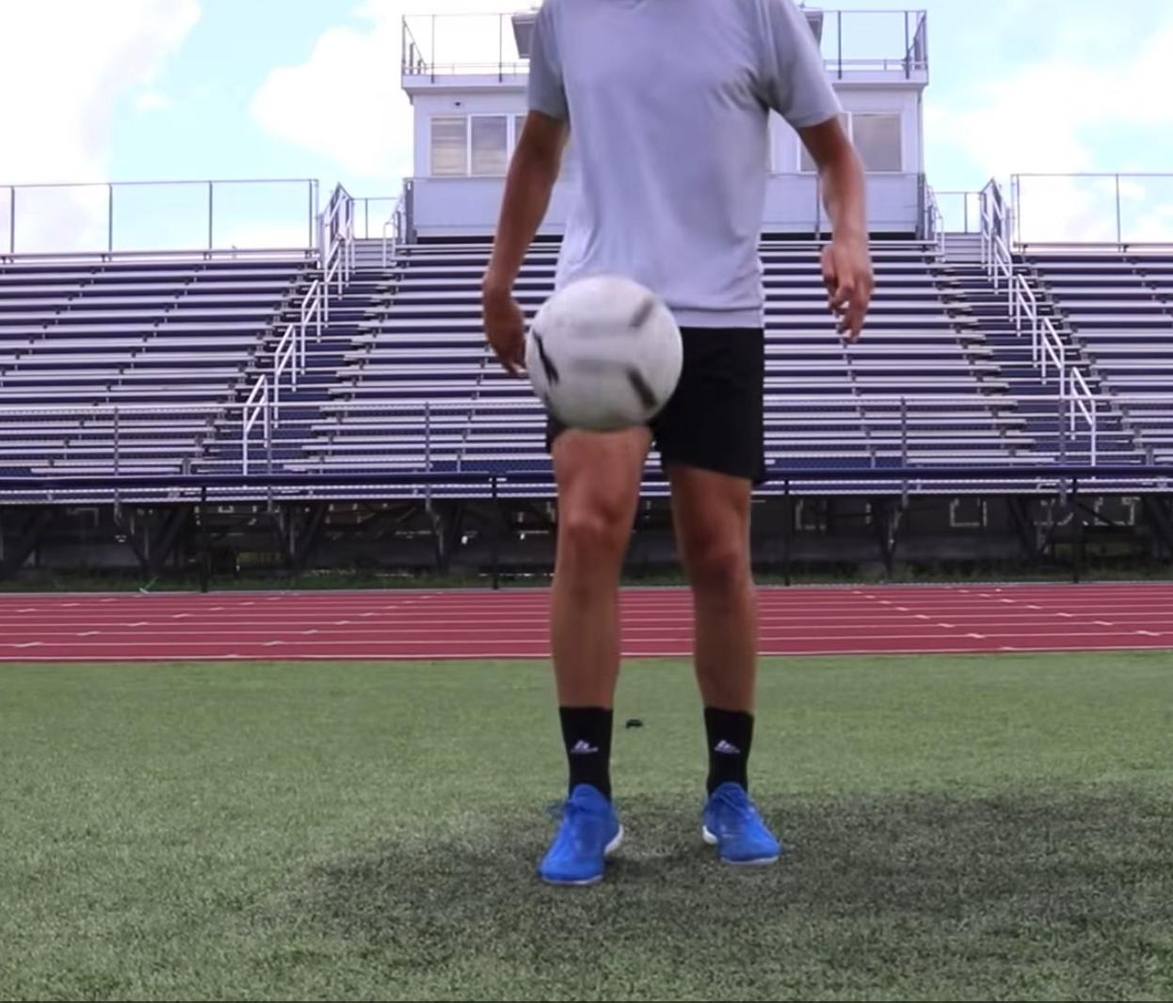ball: (526, 273, 681, 432)
foot: (537, 784, 626, 892), (696, 773, 779, 872)
person: (482, 0, 877, 889)
